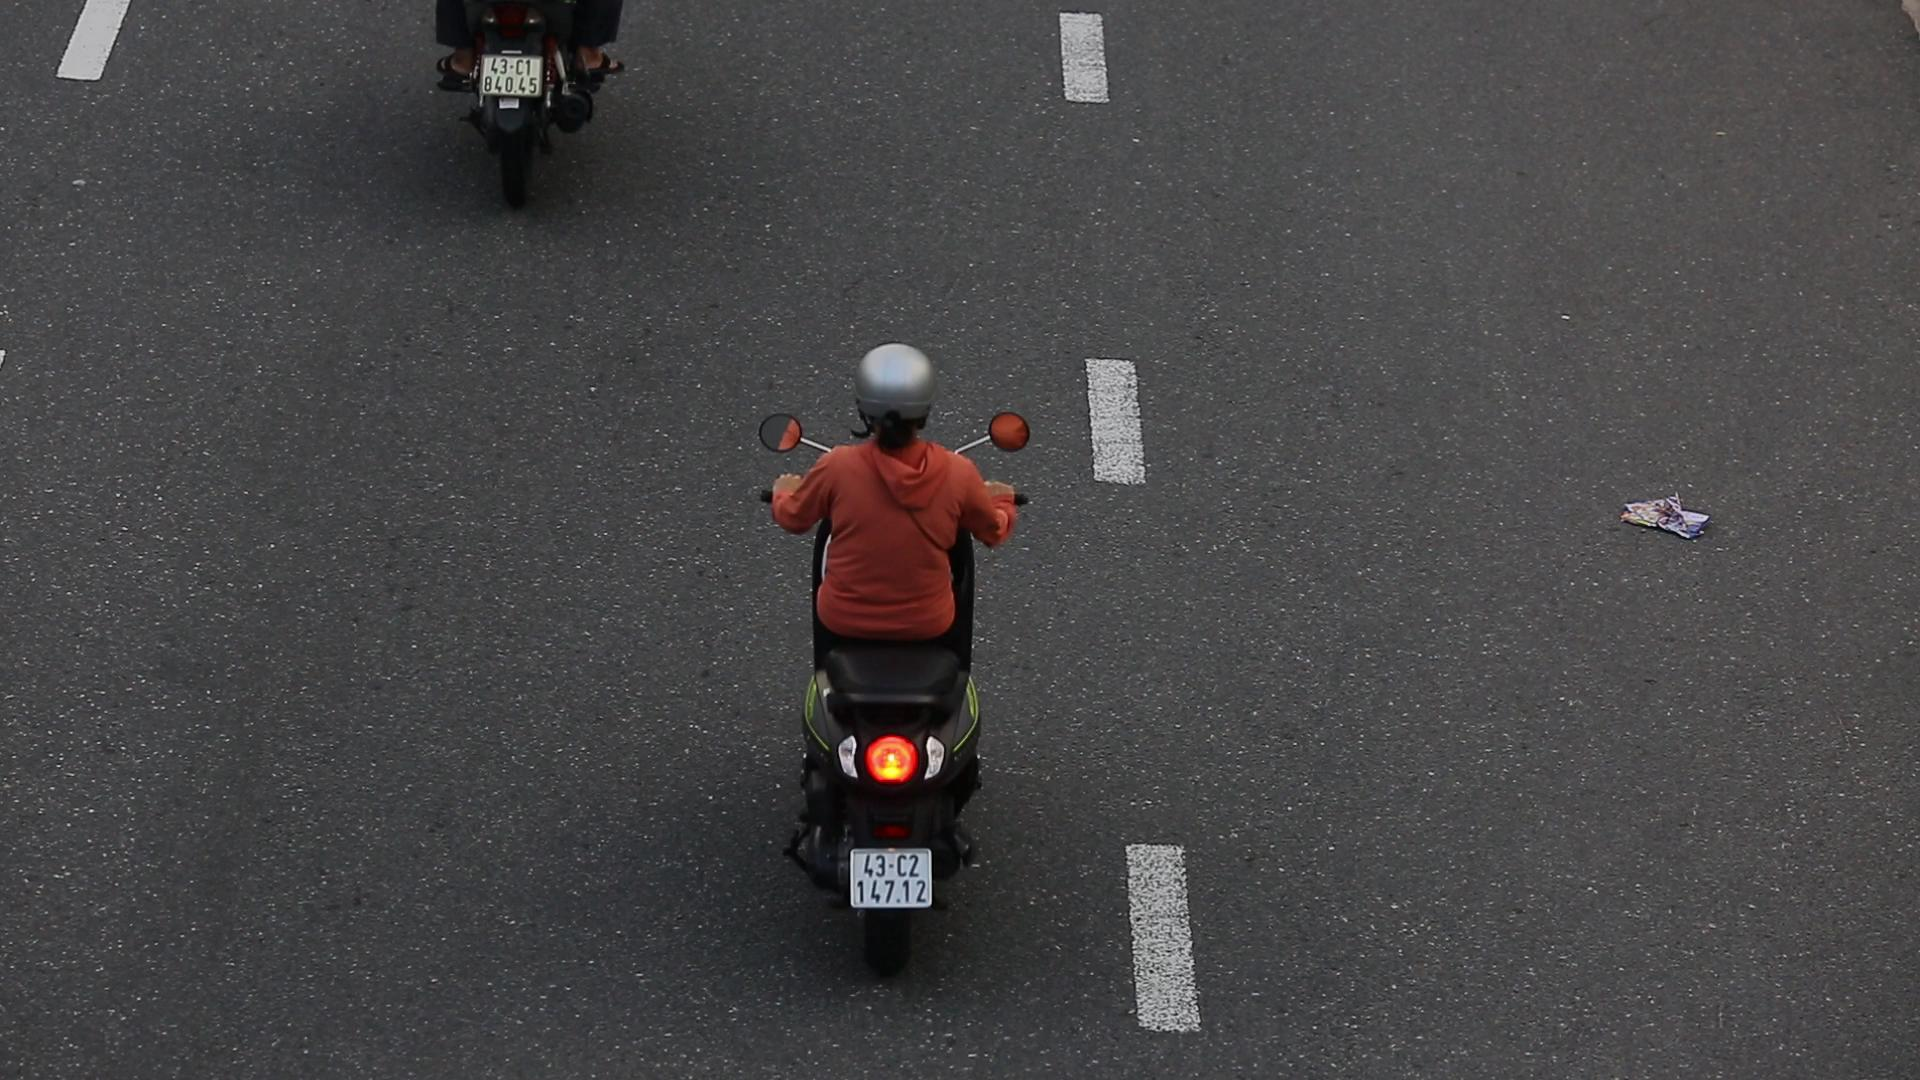motobike: (729, 303, 1058, 973)
